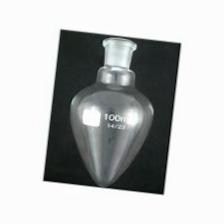Pear shaped flask: (68, 33, 156, 192)
